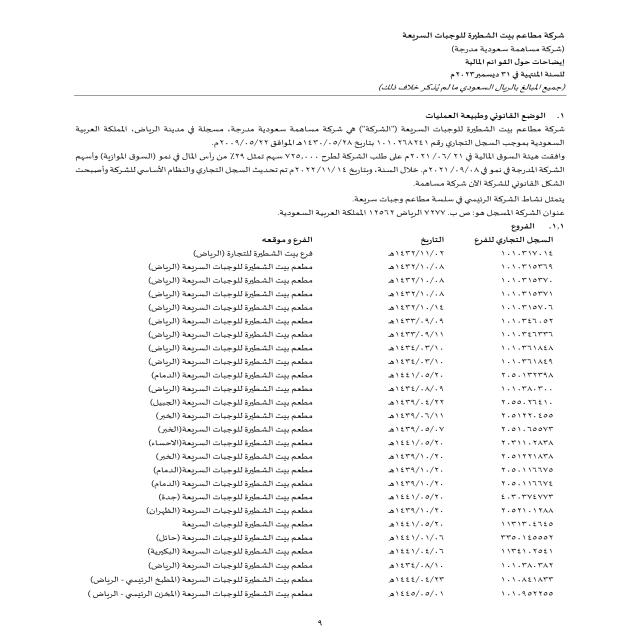notes: (460, 57, 571, 68)
table: (31, 108, 581, 612)
